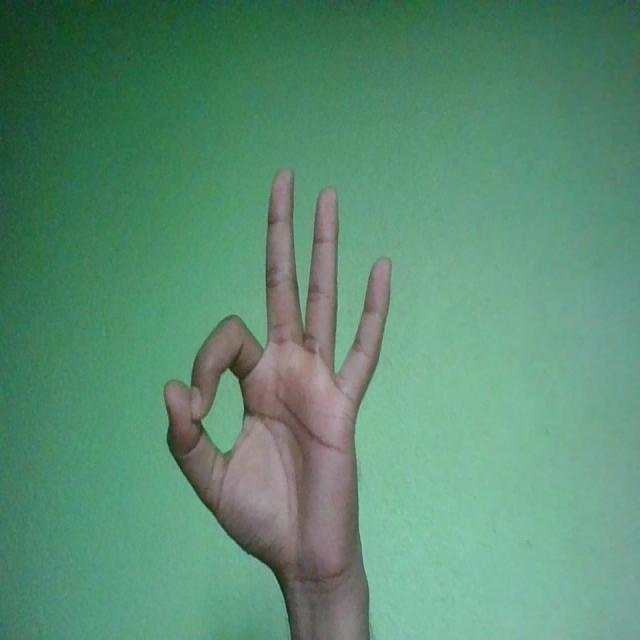Rock On: (165, 164, 392, 595)
